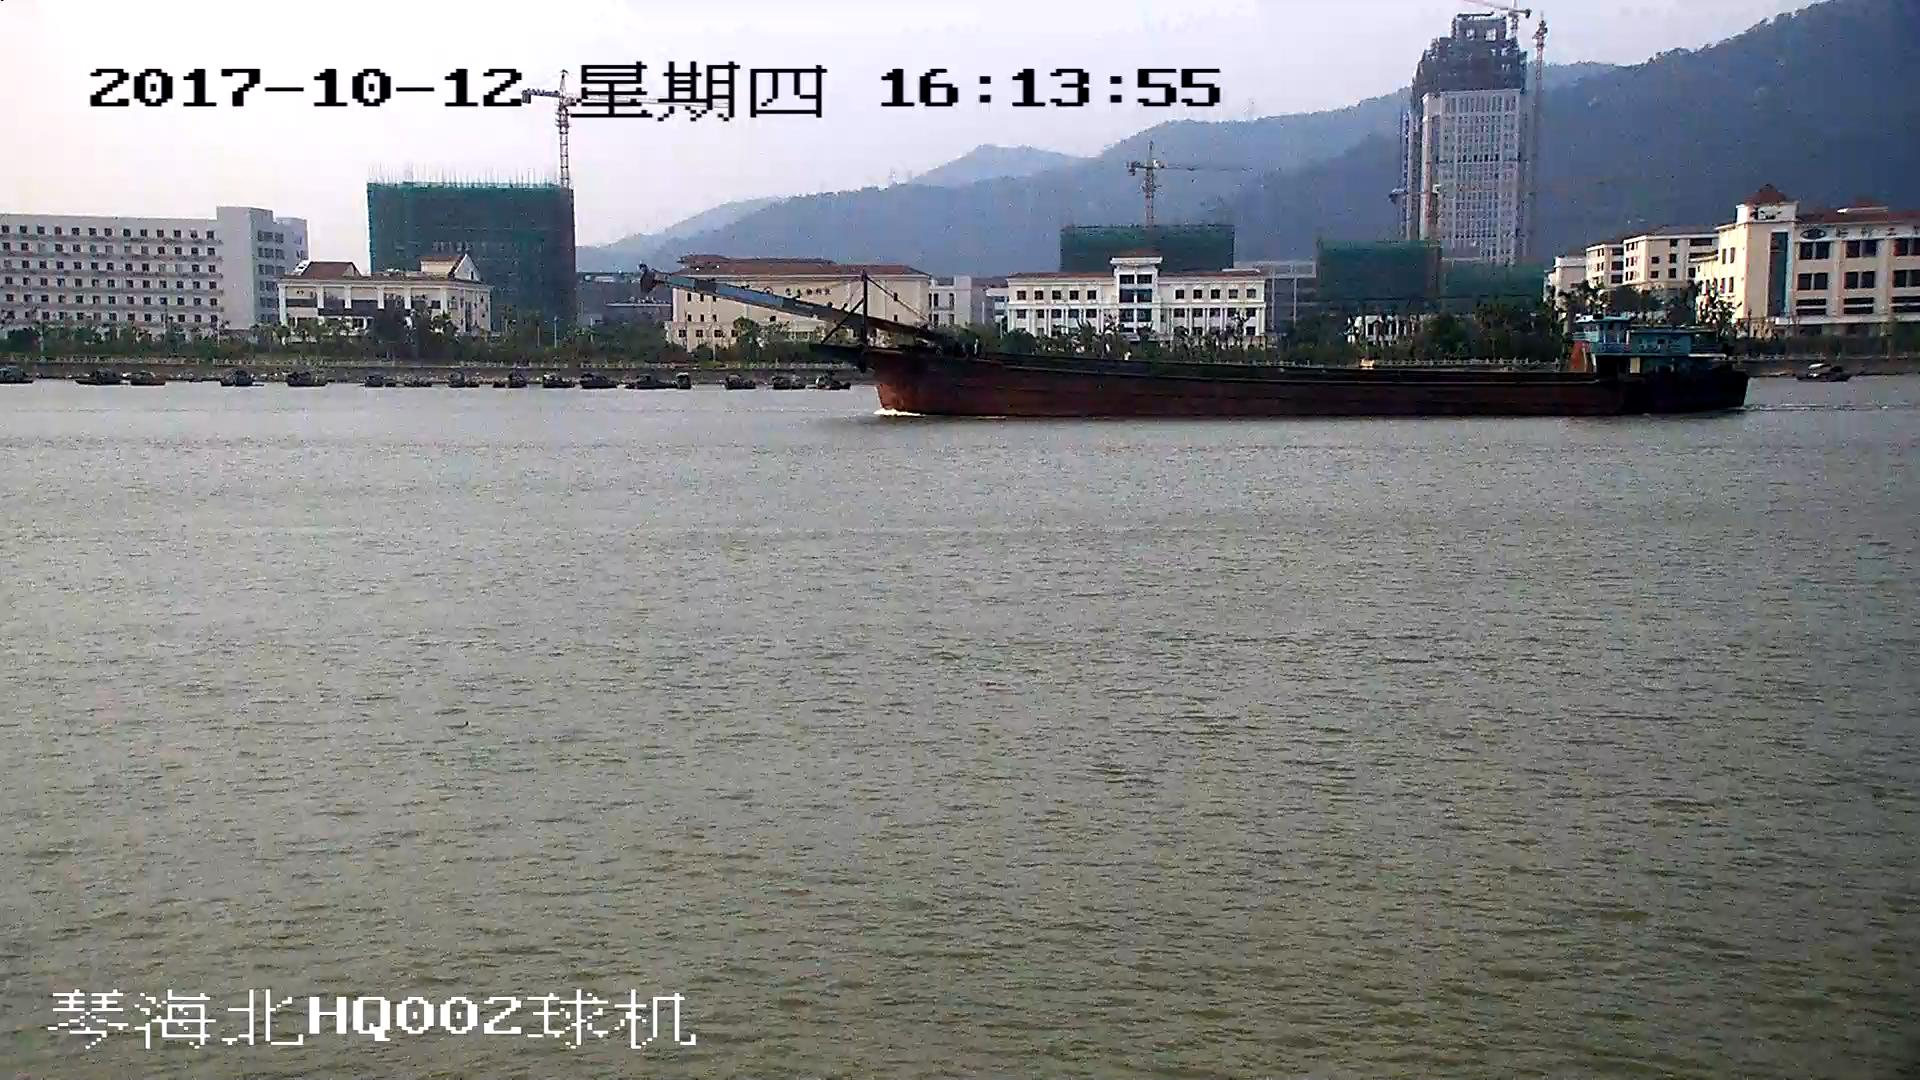bulk cargo carrier: (644, 267, 1743, 416)
